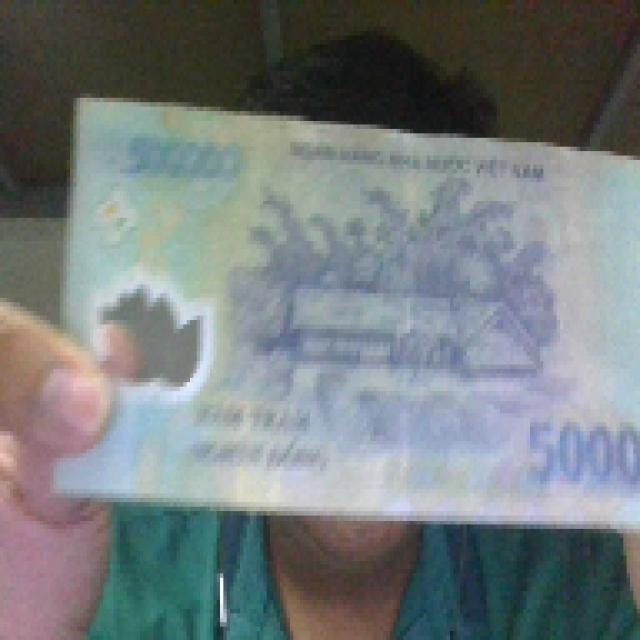500 000 VND: (50, 84, 637, 538)
